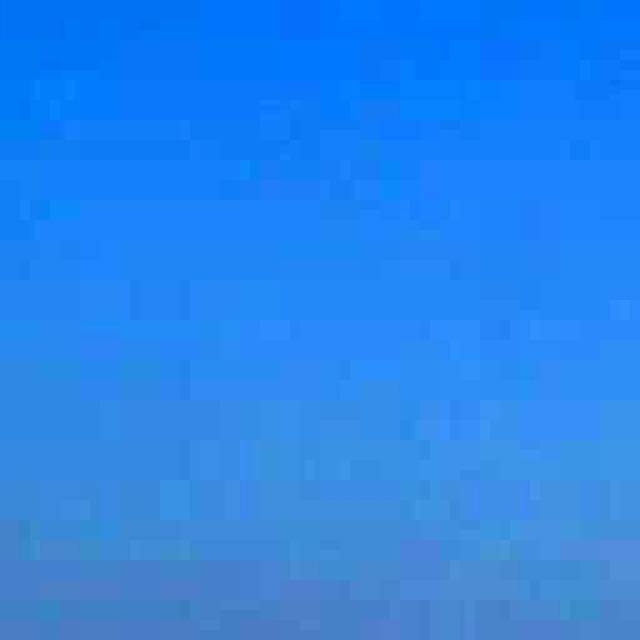bird: (621, 280, 640, 330)
